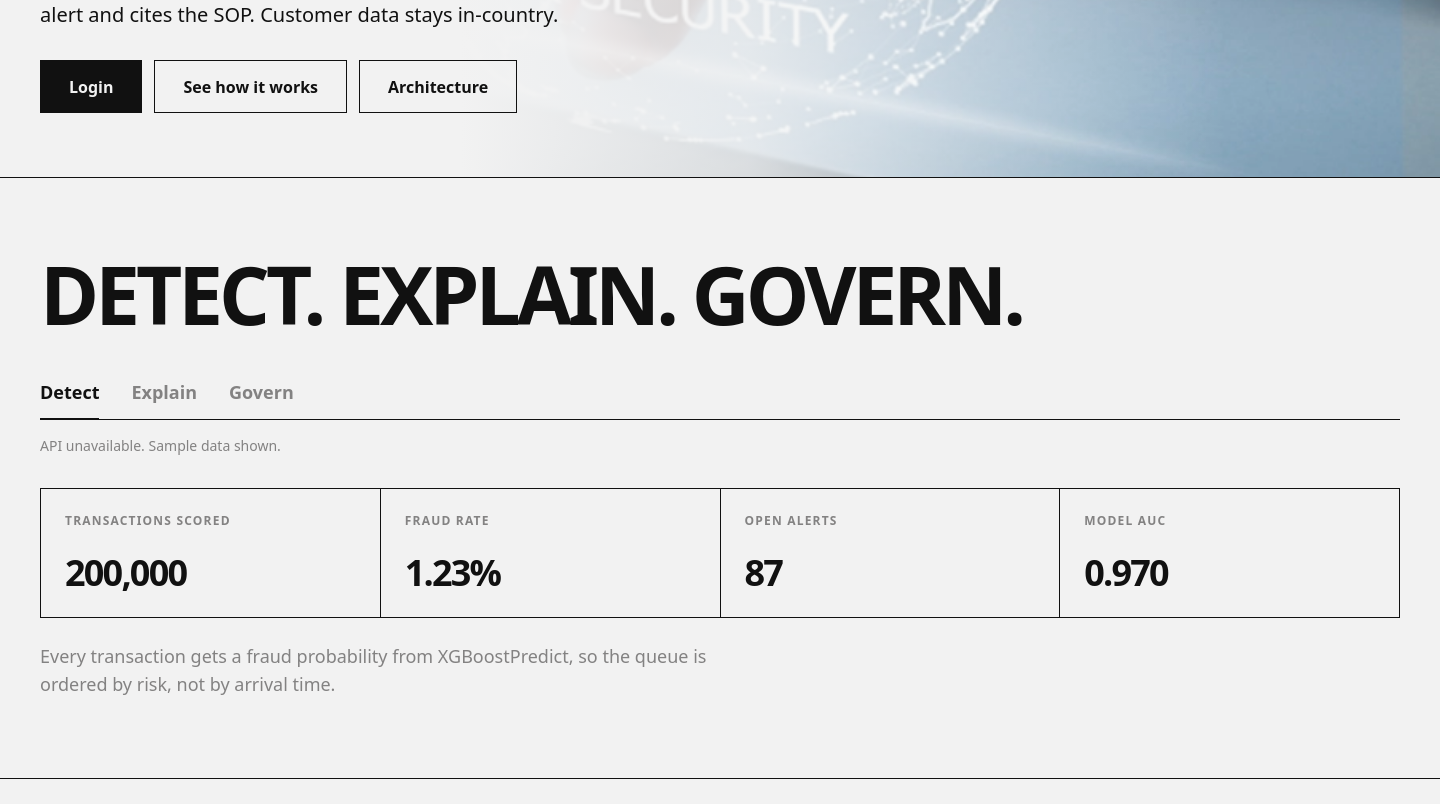
Scenario: falls back to sample text when the API is unavailable
The image size is (1440, 804).
(page scrolled)
Expected: the text "API unavailable. Sample data shown." is shown, [40,436,281,455]
Click the tab "Explain". click: {"x": 164, "y": 399}
box: [132,378,197,420]
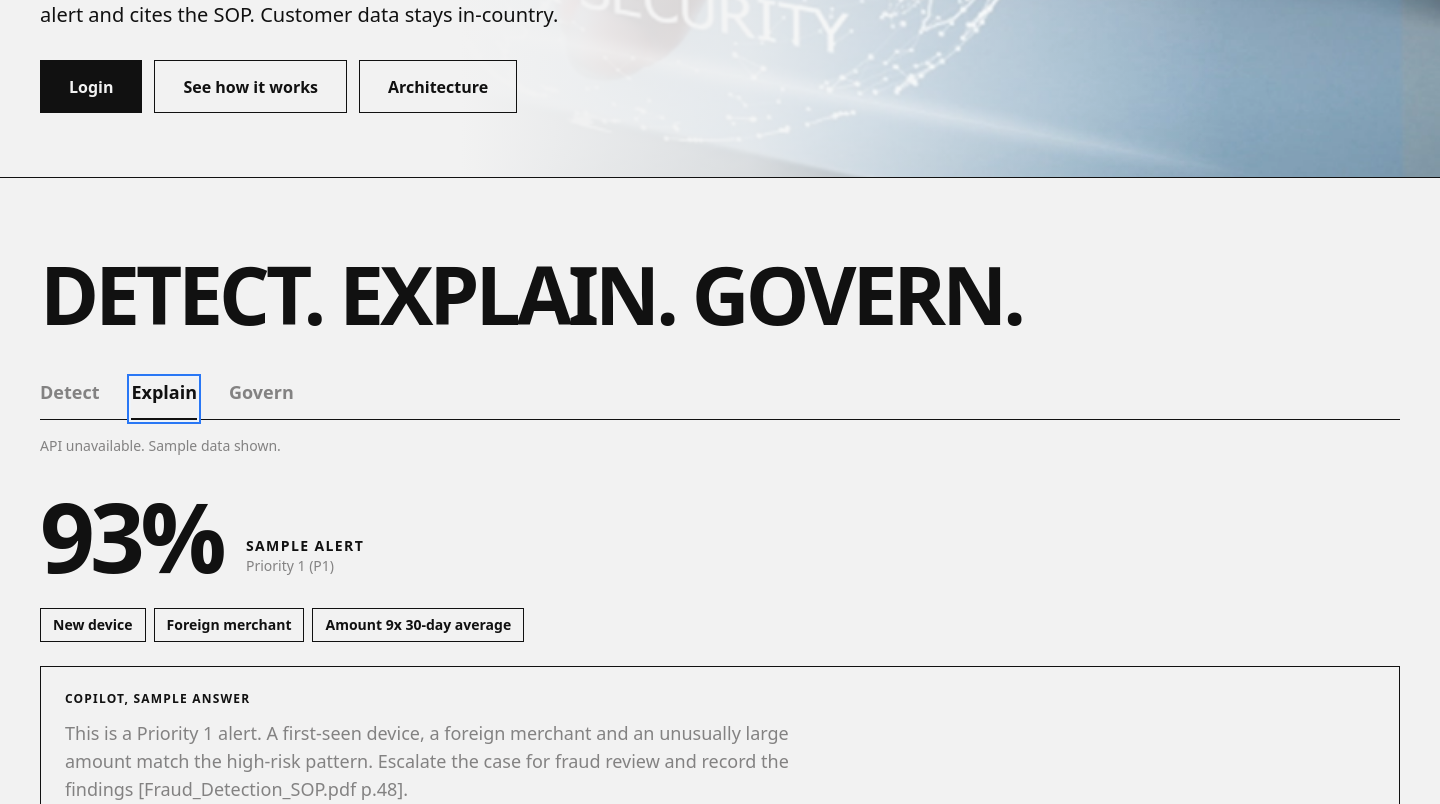
Now the list item "New device" is shown, box [40,608,146,642]
Now the text "Sample alert" is shown, box [246,536,364,556]
